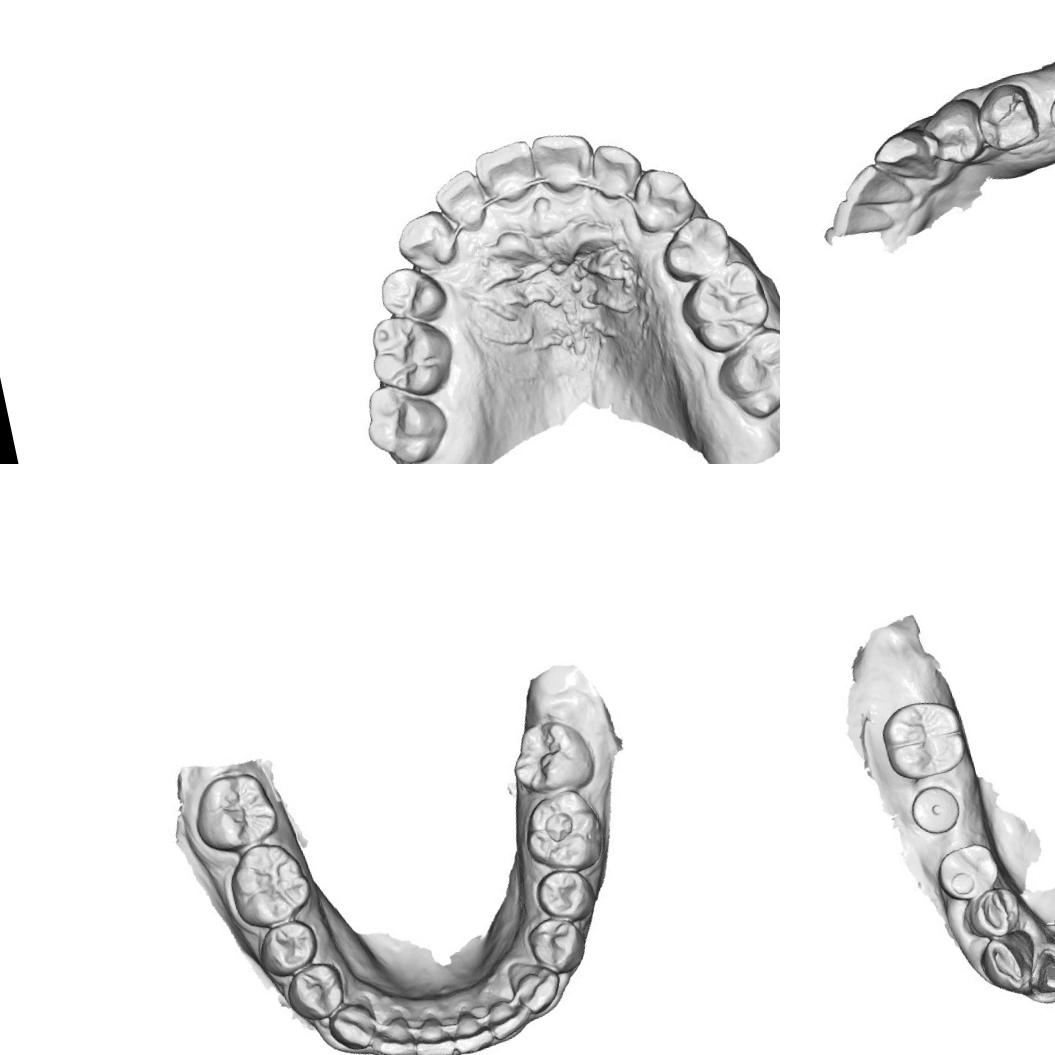canine: (623, 159, 703, 240), (868, 120, 945, 196), (389, 204, 463, 280), (975, 929, 1034, 996), (511, 956, 560, 1012), (327, 997, 379, 1048)
crown: (1028, 946, 1055, 998)
implant: (907, 779, 967, 840)
incisor: (469, 136, 544, 216), (526, 124, 602, 201), (822, 189, 906, 250), (836, 154, 914, 218), (584, 135, 650, 206), (428, 166, 491, 240), (447, 1001, 494, 1055), (484, 991, 529, 1044), (369, 1010, 422, 1055), (409, 1012, 456, 1055)
molar: (671, 255, 778, 362), (362, 303, 462, 406), (219, 834, 318, 934), (358, 372, 456, 464), (877, 692, 972, 786), (187, 766, 280, 858), (524, 785, 614, 880), (706, 321, 780, 427), (502, 715, 594, 799)
premolar: (654, 208, 738, 287), (374, 258, 452, 332), (918, 99, 988, 171), (278, 956, 350, 1026), (974, 80, 1039, 151), (256, 914, 324, 978), (936, 837, 1002, 902), (962, 879, 1026, 944), (530, 864, 591, 926), (531, 914, 589, 970)
